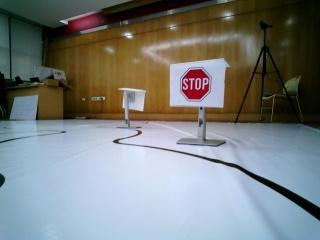stop: (175, 64, 218, 105)
